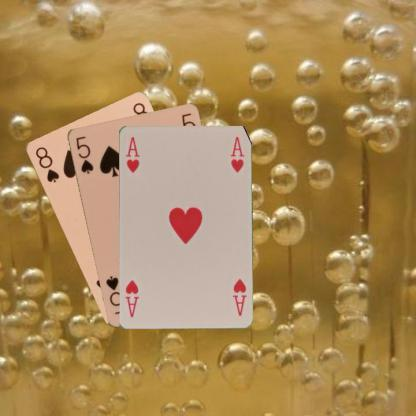5s: (73, 133, 95, 175)
8s: (32, 144, 60, 184)
Ah: (122, 133, 140, 174), (230, 276, 248, 317)
